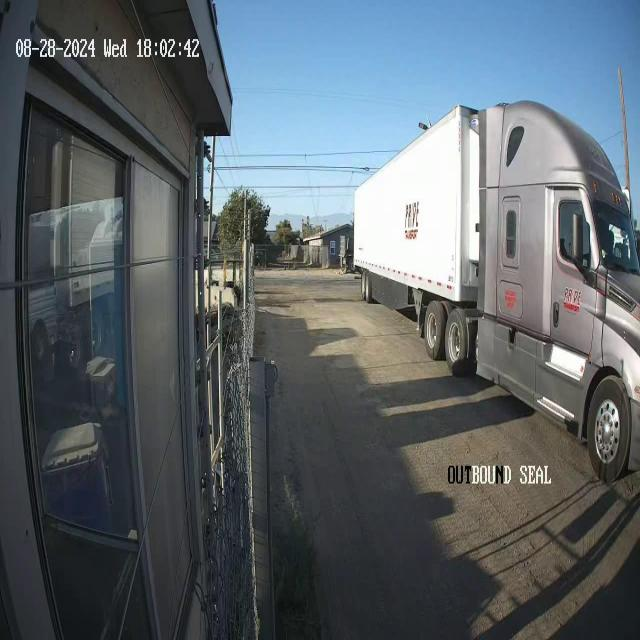TRUCK_IN: (352, 91, 640, 485)
